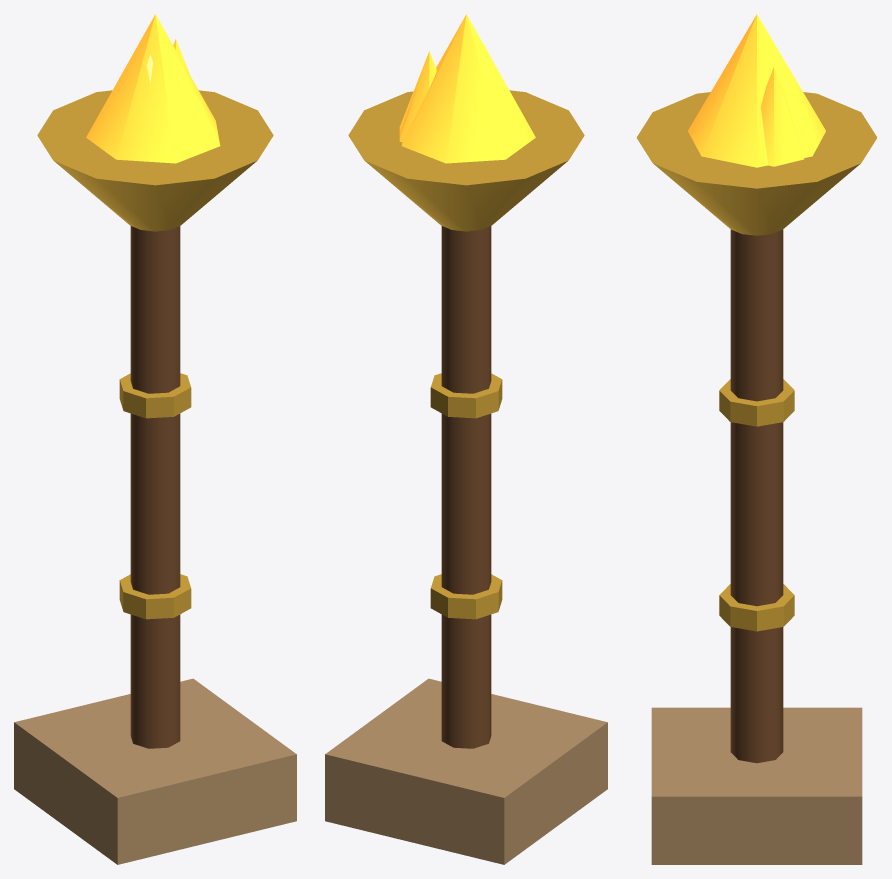
The model's file is eg_torch.glb.
3 views of the same model, side by side, from view 1: azimuth 30°, elevation 25°; view 2: azimuth 150°, elevation 25°; view 3: azimuth 270°, elevation 25° (orthographic).
Visible parts, largest first — view 1: eg_torch; view 2: eg_torch; view 3: eg_torch.
Boxes of the visible parts, bbox=[...] form: eg_torch: bbox=[14, 14, 296, 864]; eg_torch: bbox=[325, 14, 607, 864]; eg_torch: bbox=[636, 14, 877, 864].
Size of the model in its own units: 0.6393 by 2.36 by 0.6393.
